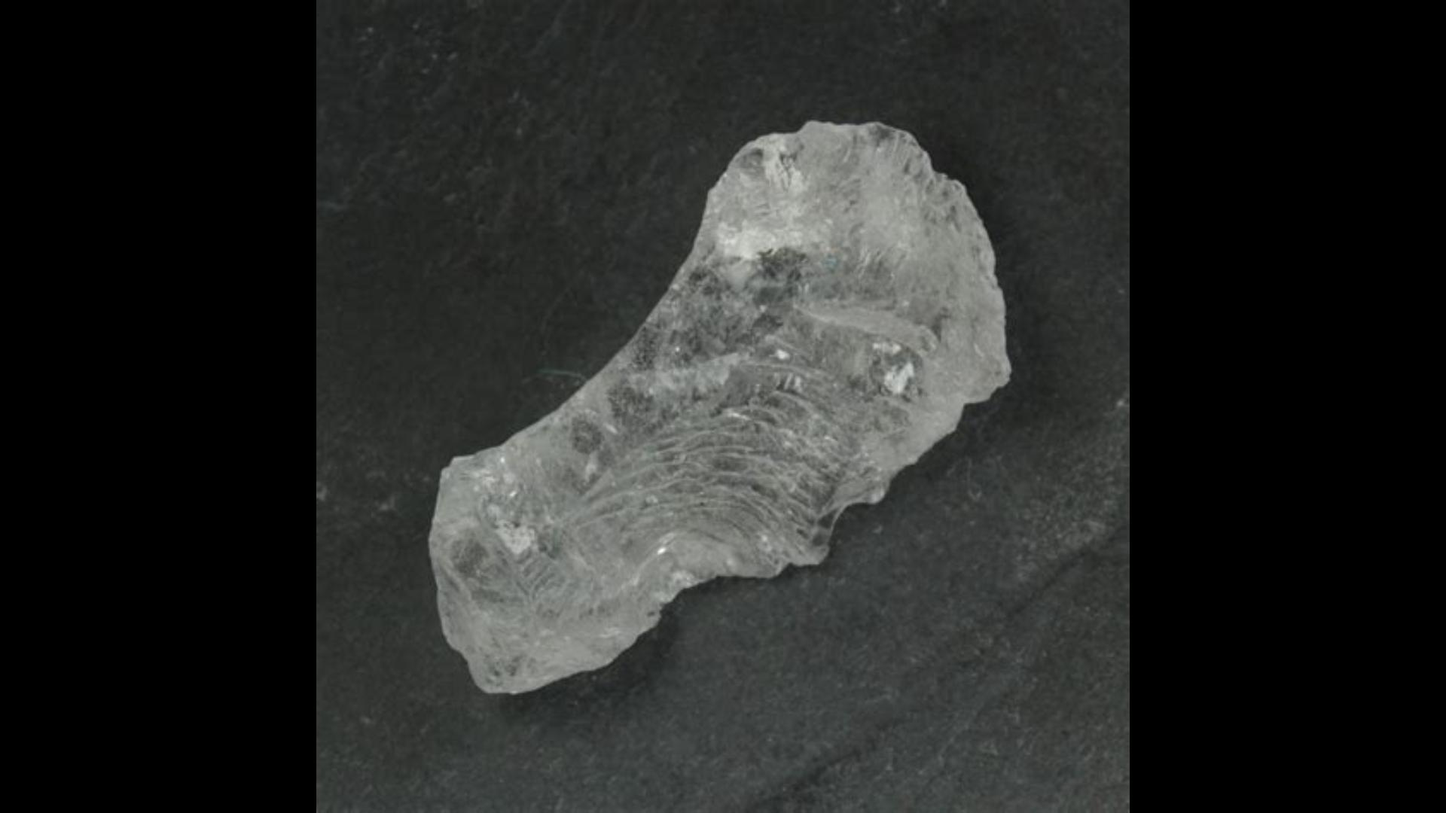rock: (430, 122, 1006, 690)
